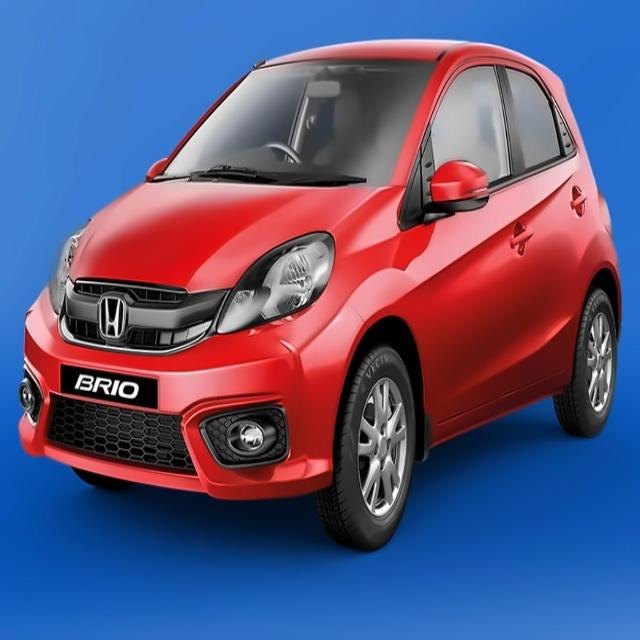Car hood: (61, 177, 393, 289)
Fender - -F-L-: (320, 179, 435, 393)
Front bumper: (9, 287, 370, 503)
Headlight - -L-: (204, 229, 340, 344)
Headlight - -R-: (47, 222, 85, 318)
Passenger-s door - -F-L-: (408, 32, 542, 470)
Passenger-s door - -R-L-: (494, 33, 598, 441)
Side bumper - -L-: (423, 356, 576, 494)
Side mirror - -L-: (415, 157, 490, 227)
